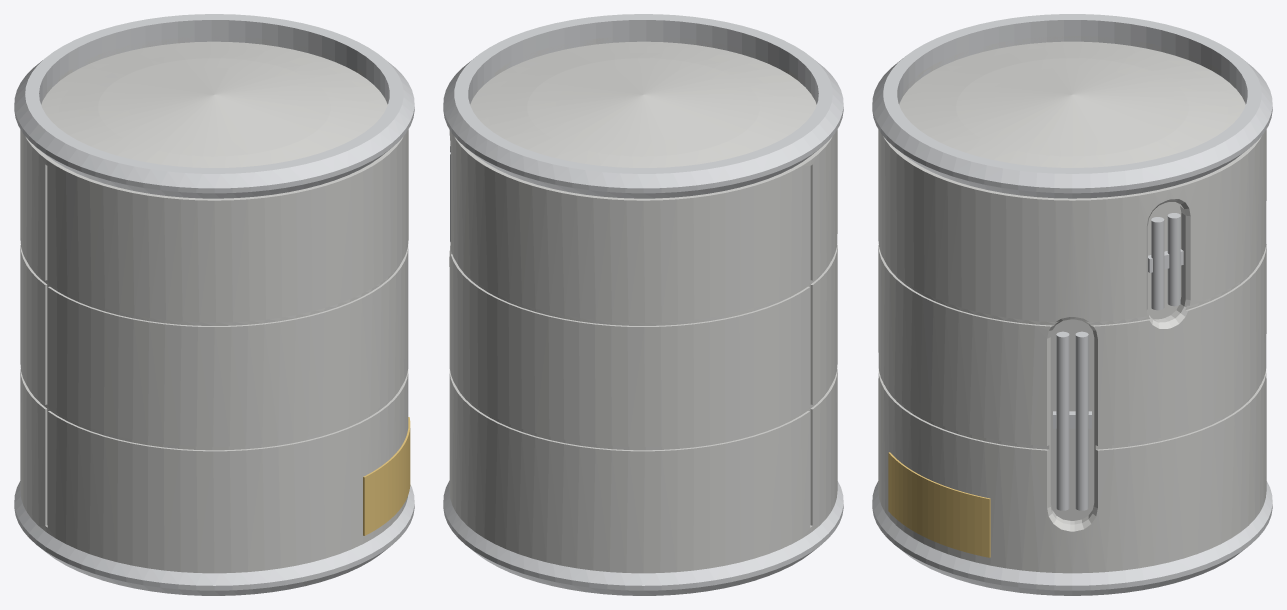
The model's file is ax_tank_01_modern_methalox_s_short.glb.
The picture shows the model from 3 angles, left to right: view 1: azimuth 30°, elevation 25°; view 2: azimuth 150°, elevation 25°; view 3: azimuth 270°, elevation 25°; orthographic projection.
Parts seen in each view (by area): view 1: tank_barrel, end_rings, dome_caps, mli_patch; view 2: tank_barrel, end_rings, dome_caps; view 3: tank_barrel, dome_caps, end_rings, raceway_lines, mli_patch.
Boxes of the visible parts, x1=… form: tank_barrel: x1=20, y1=129, x2=408, y2=573; end_rings: x1=14, y1=14, x2=414, y2=595; dome_caps: x1=41, y1=36, x2=387, y2=167; mli_patch: x1=363, y1=417, x2=410, y2=535; tank_barrel: x1=449, y1=129, x2=837, y2=573; end_rings: x1=443, y1=14, x2=843, y2=595; dome_caps: x1=470, y1=36, x2=816, y2=167; tank_barrel: x1=878, y1=129, x2=1266, y2=573; dome_caps: x1=898, y1=36, x2=1245, y2=167; end_rings: x1=872, y1=14, x2=1272, y2=595; raceway_lines: x1=1053, y1=213, x2=1183, y2=510; mli_patch: x1=888, y1=452, x2=990, y2=557.
Bounding box in the file's own units: 1.29 × 1.5 × 1.29.
